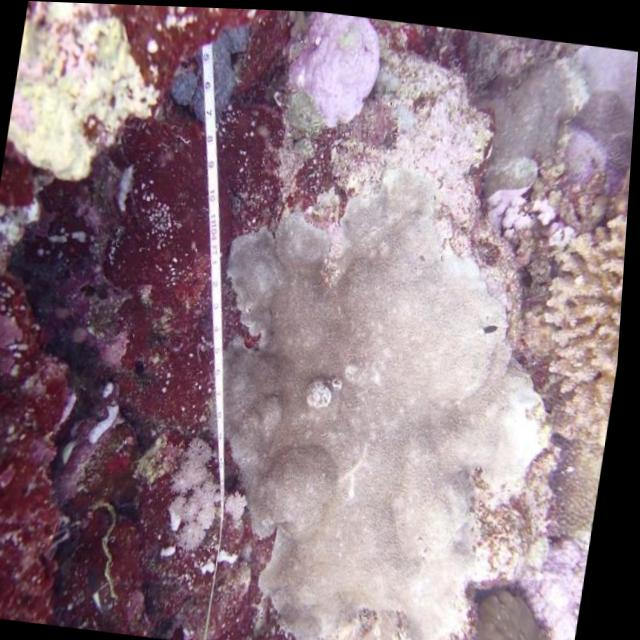Bleached Coral: (172, 160, 591, 640), (267, 8, 400, 143), (159, 432, 259, 550)
